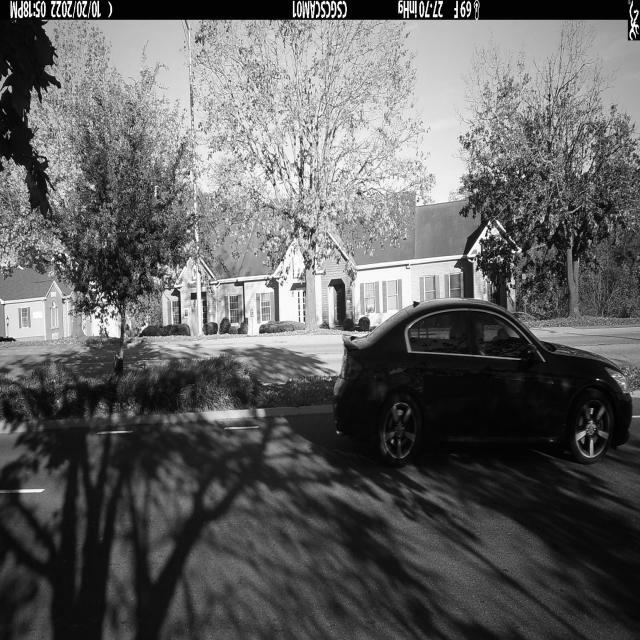Sedan: (333, 298, 633, 465)
